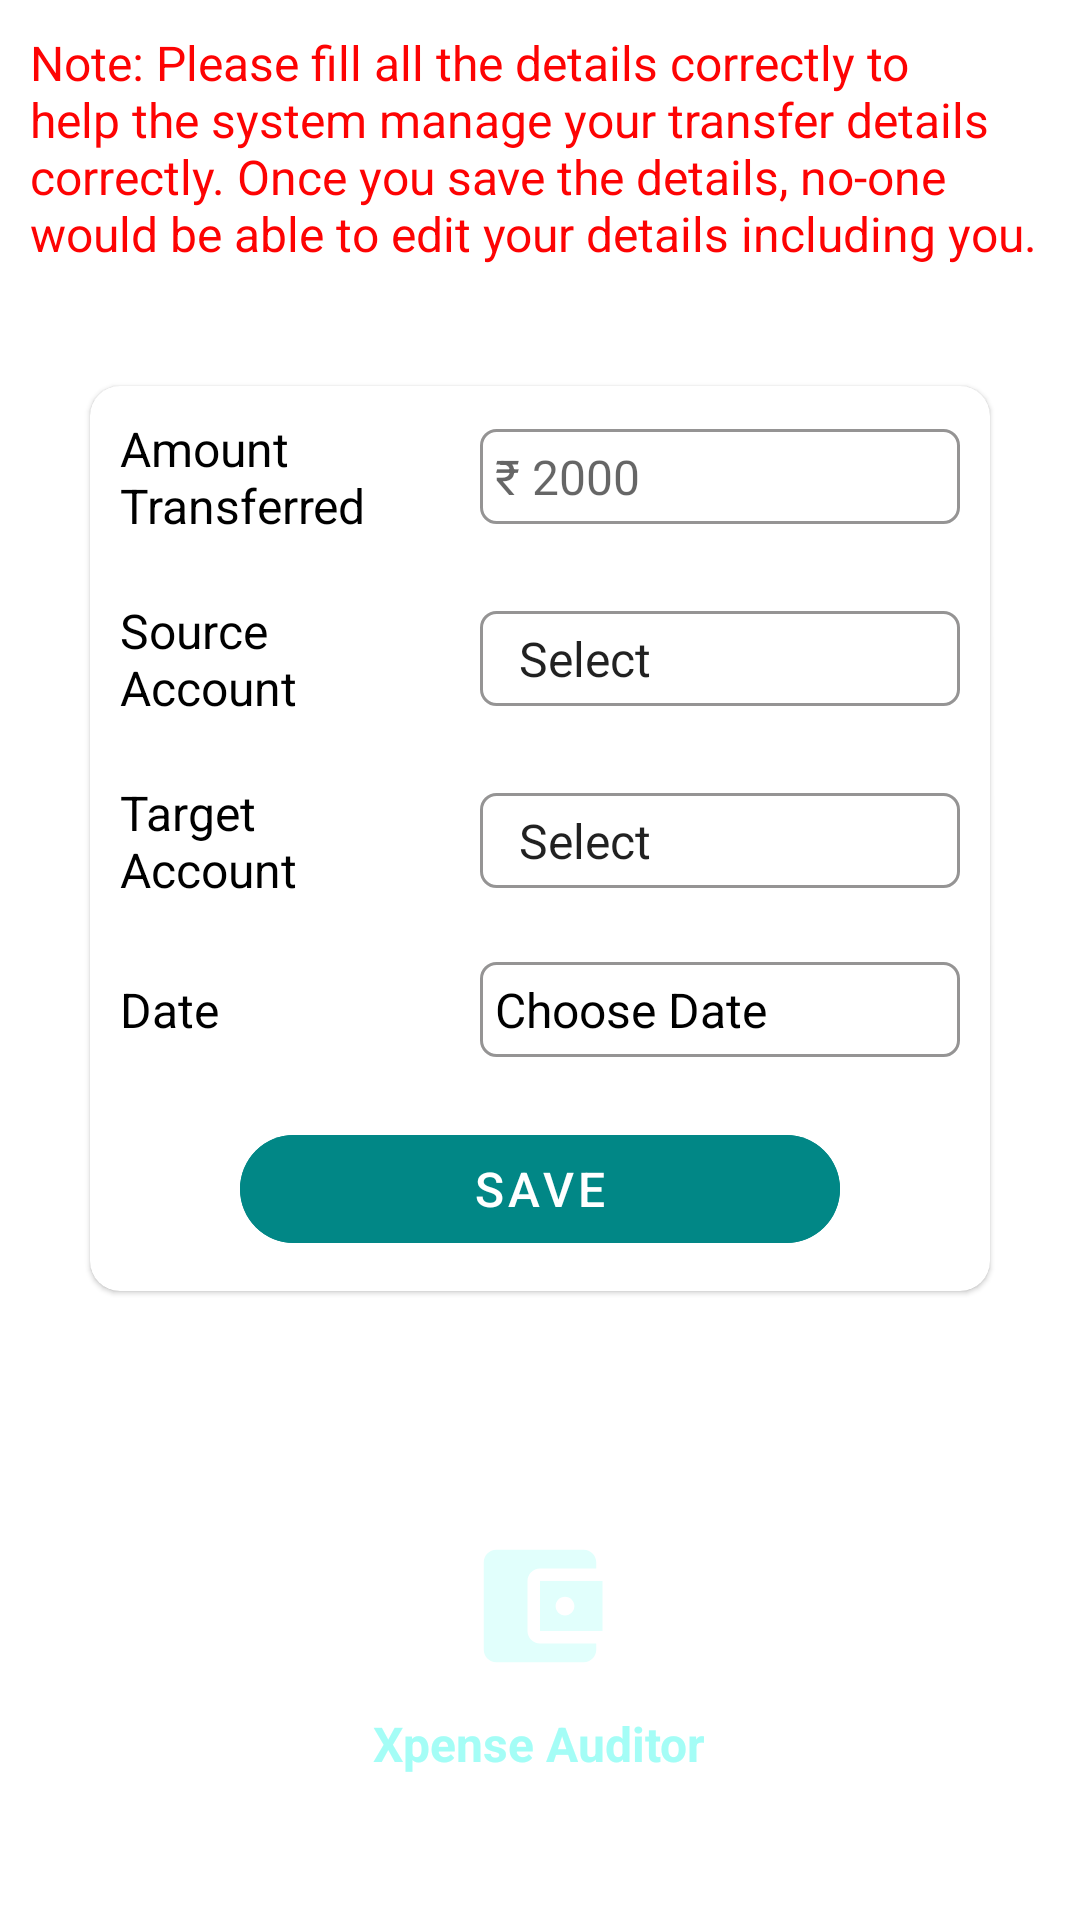

Named icons in this screenshot (1080 × 1920) and their centers, point (x, y):
wallet: point (543, 1606)
